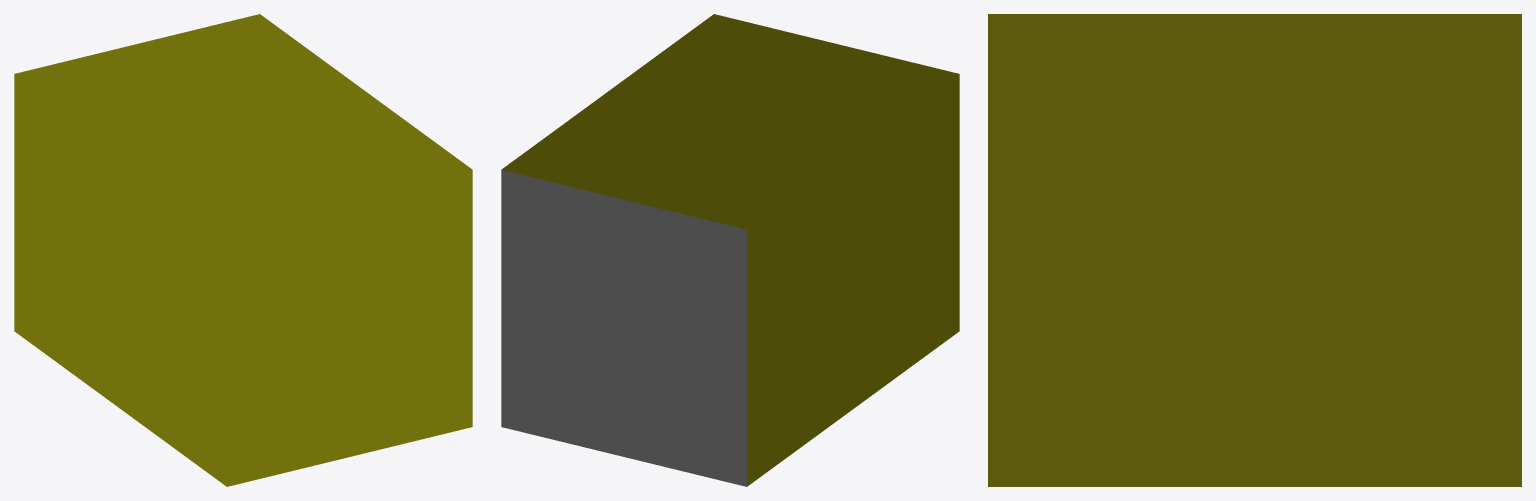
Rendered from idf.obj.
3 views of the same model, side by side, from view 1: azimuth 30°, elevation 25°; view 2: azimuth 150°, elevation 25°; view 3: azimuth 270°, elevation 25° (orthographic). The views are drawn at different scales.
Bounding box in the file's own units: 6.1 × 6.1 × 9.14.
